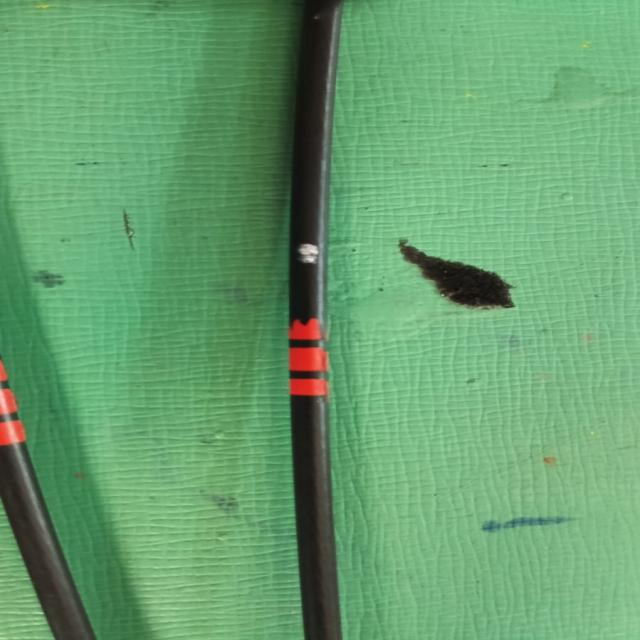red: (288, 316, 329, 398), (0, 356, 30, 447)
